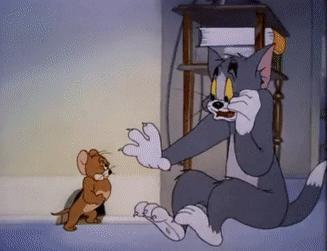jerry: (50, 148, 116, 231)
